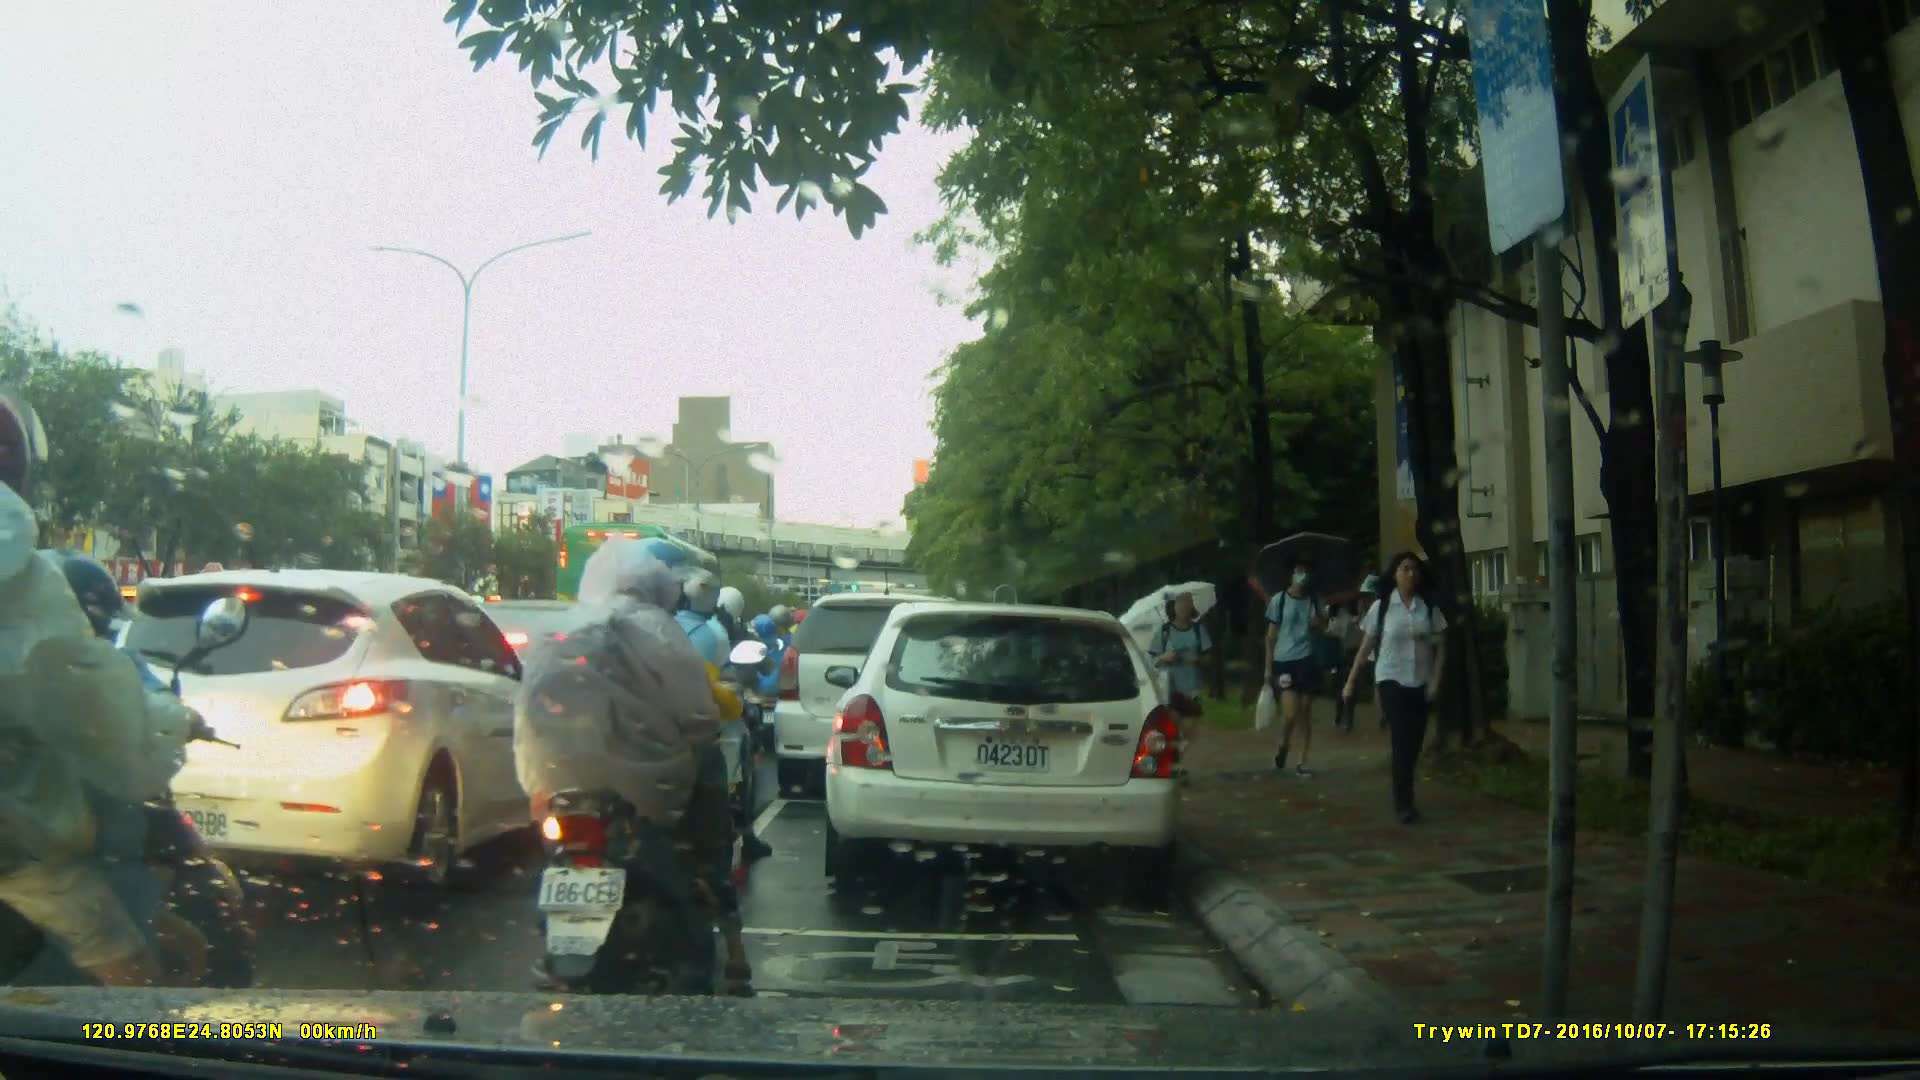pedestrian: (1355, 539, 1466, 830), (1249, 556, 1331, 786), (1151, 583, 1214, 783), (1135, 605, 1175, 739)
rider: (1, 401, 274, 1066), (511, 538, 770, 1001), (607, 562, 744, 869), (644, 579, 759, 839), (737, 601, 798, 746)
vehicle: (91, 569, 591, 884), (822, 604, 1186, 882), (774, 595, 995, 802), (554, 519, 739, 666)
